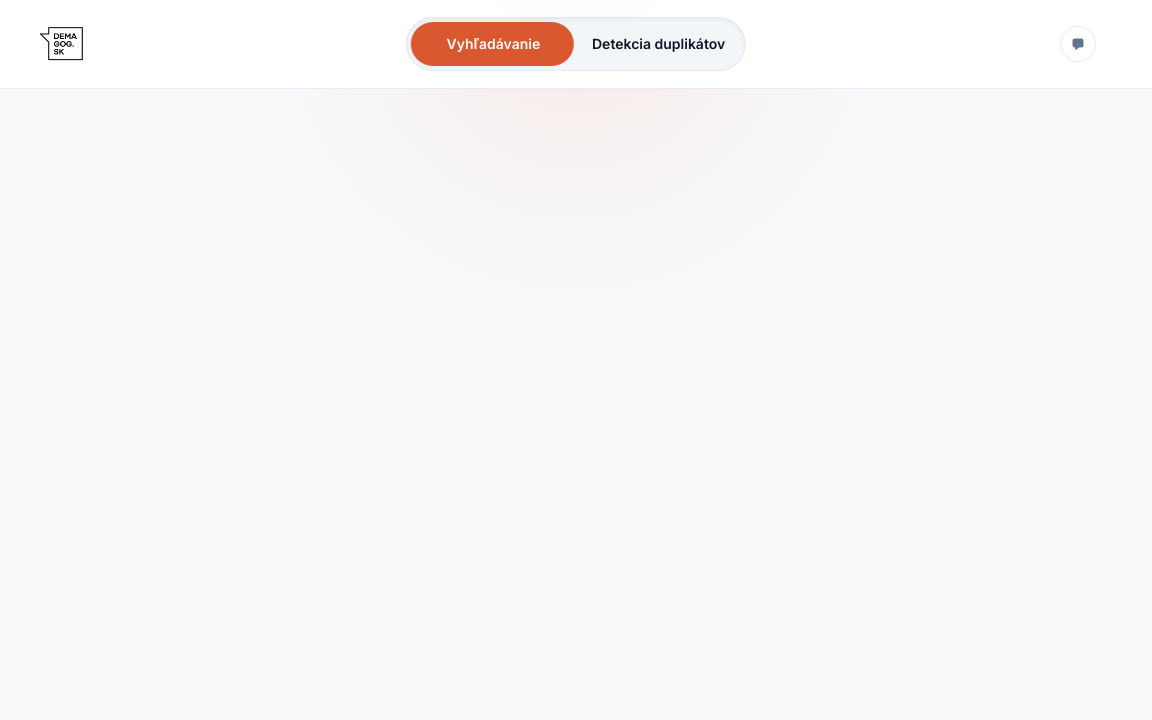
Scenario: FeedbackWidget › clicking the navbar button while the panel is open does not immediately reopen
Click the button named "Otvoriť spätnú väzbu" at (1078,44), box x1=1060 y1=26 x2=1096 y2=62
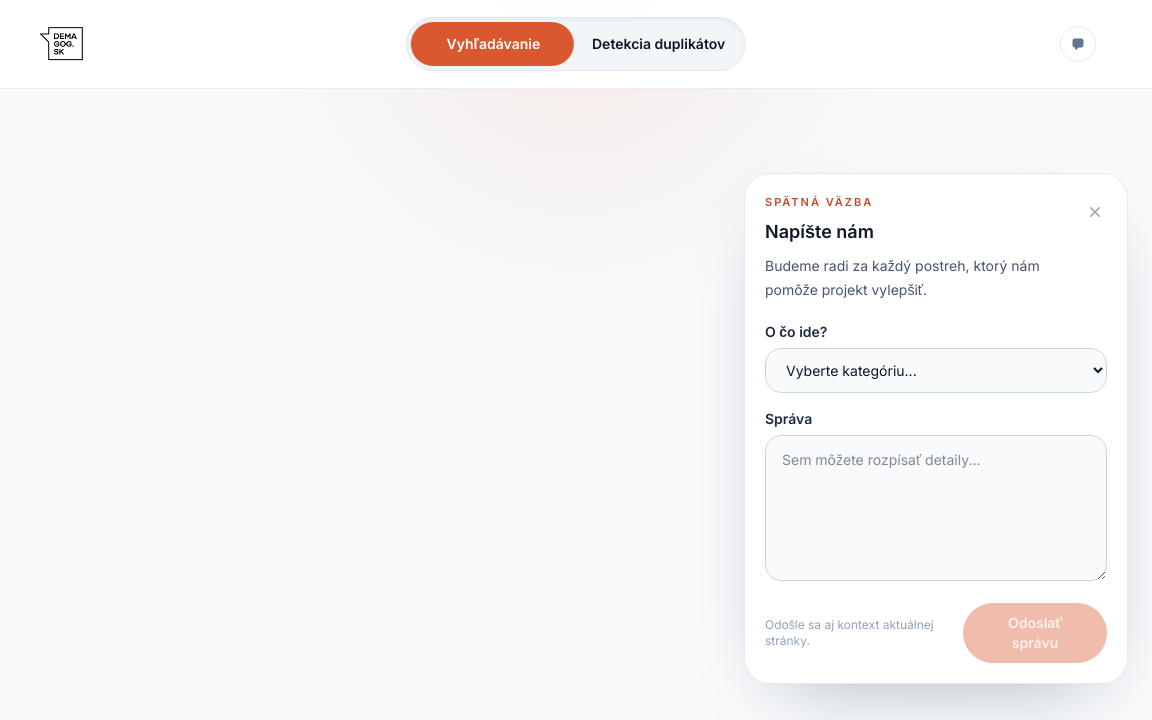
Now the dialog "Napíšte nám" is shown, box x1=744 y1=172 x2=1128 y2=684
Click the button named "Zavrieť spätnú väzbu" at (1078,44), box x1=1060 y1=26 x2=1096 y2=62
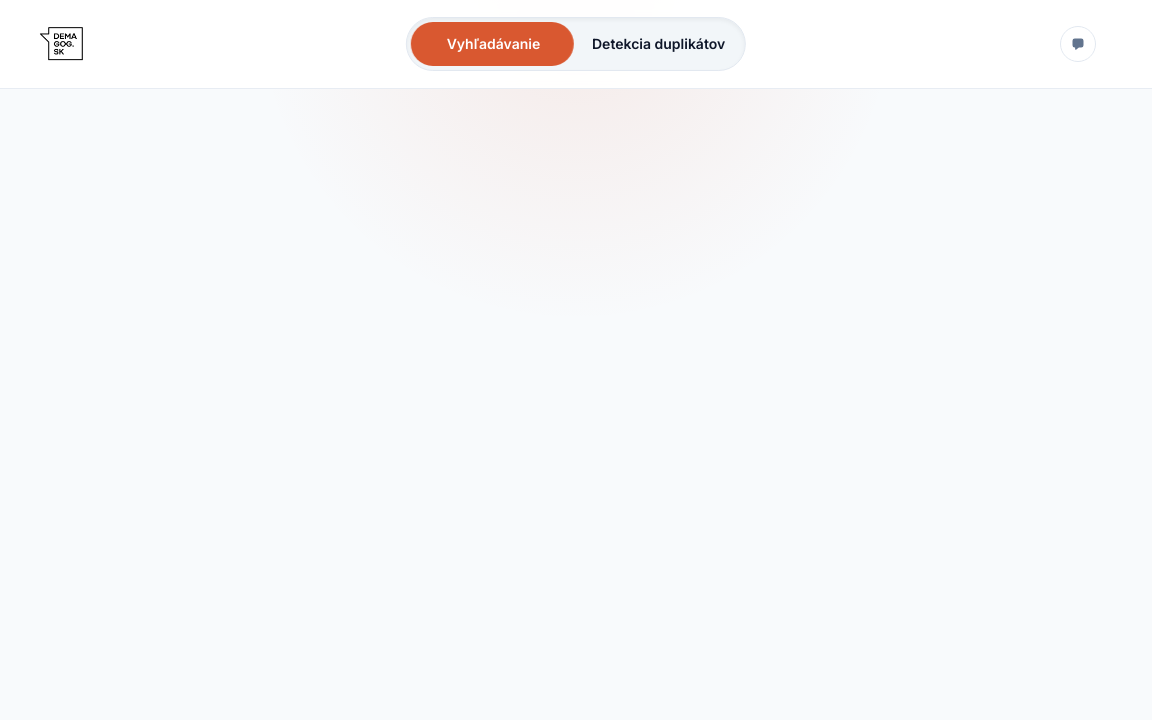
Now the heading "Napíšte nám" is gone
Click the button named "Otvoriť spätnú väzbu" at (1078,44), box x1=1060 y1=26 x2=1096 y2=62
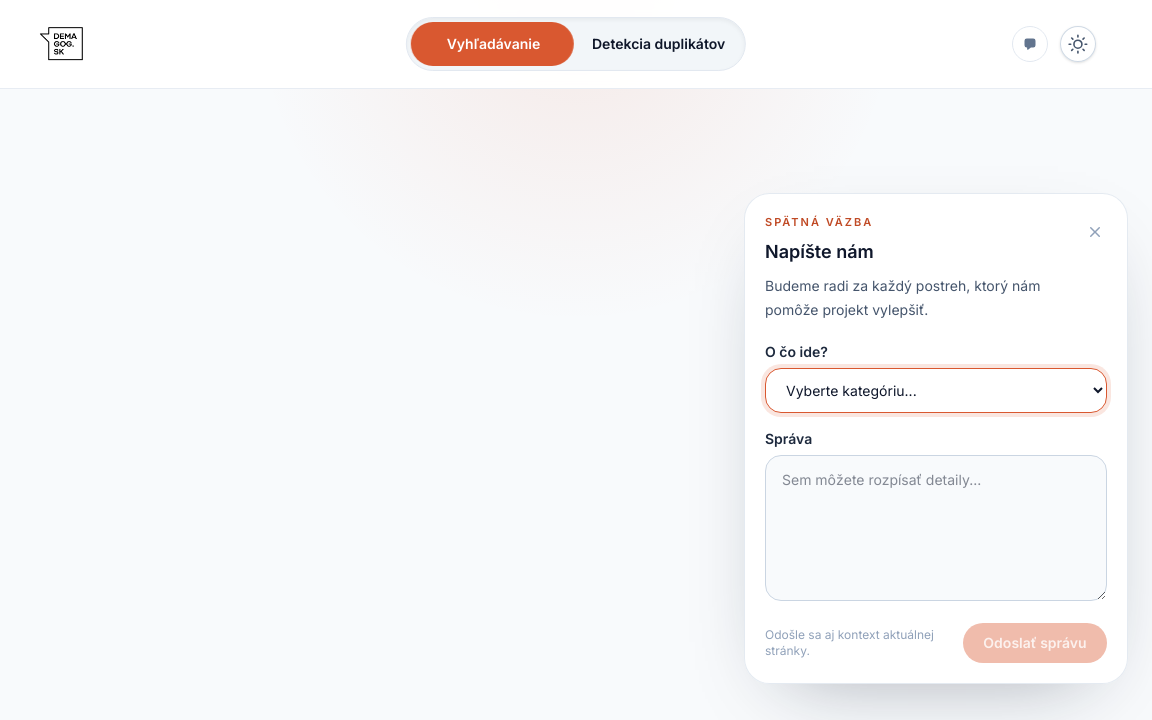
Now the dialog "Napíšte nám" is shown, box x1=744 y1=192 x2=1128 y2=684
